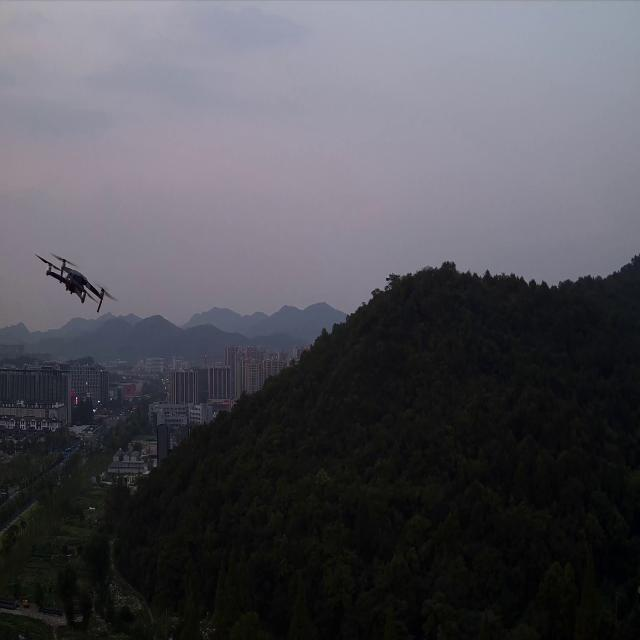UAV: (34, 249, 120, 312)
